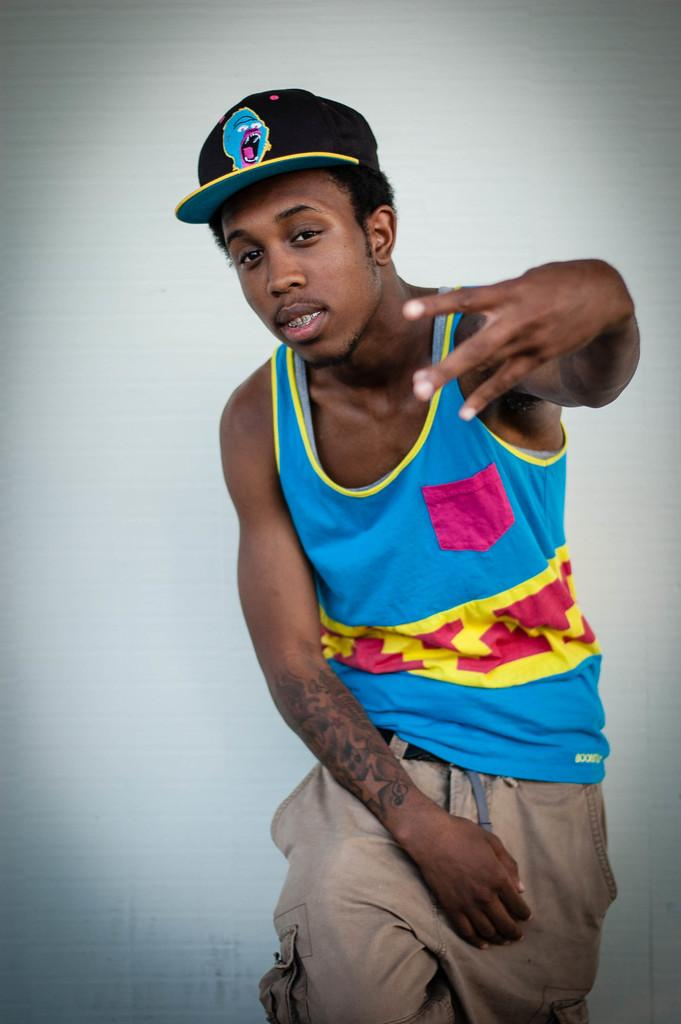Hat: (174, 84, 374, 225)
